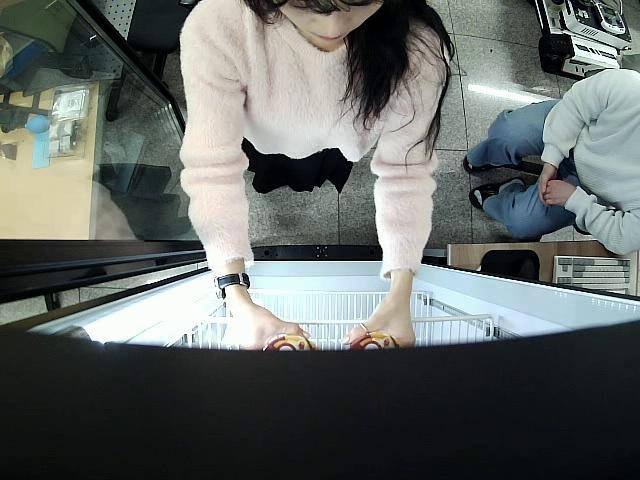06_nuguri_S: (345, 330, 404, 352), (261, 334, 316, 352)
